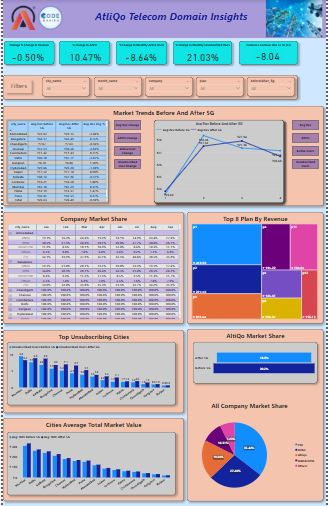

The page's visual inventory and layout, read from the dashboard file:
{"tool":"powerbi","page":{"name":"Overview Insight","canvas":[1700,2800],"ordinal":1},"visuals":[{"type":"textbox","box":[970.8,1764.6,716.9,906.2],"z":0},{"type":"textbox","box":[0,1766.2,952.3,436.9],"z":1000},{"type":"textbox","box":[0,588,1688,526],"z":2000},{"type":"textbox","box":[970.7,1148,717.3,588],"z":3000},{"type":"textbox","box":[0,1148,952,588],"z":4000},{"type":"textbox","box":[0,424,1550,128],"z":5000},{"type":"textbox","box":[897.1,249.3,310.1,123.2],"z":6000},{"type":"textbox","box":[592.8,249.3,268.1,123.2],"z":7000},{"type":"textbox","box":[297.1,249.3,268.1,123.2],"z":8000},{"type":"card","fields":{"Values":["A Measures Table.Mon Act User Chg %"]},"box":[631.9,288.4,189.9,71],"z":9000},{"type":"card","fields":{"Values":["A Measures Table.ARPU Chg %"]},"box":[329,292.8,204.3,62.3],"z":10000},{"type":"card","fields":{"Values":["A Measures Table.Mon Unsub User Chg %"]},"box":[952.2,288.4,200,71],"z":11000},{"type":"textbox","box":[0,0,2000,231.9],"z":12000},{"type":"image","box":[34.8,49.3,142,153.6],"z":13000},{"type":"image","box":[176.8,49.3,142,153.6],"z":14000},{"type":"image","box":[1381.5,0,306.2,232.3],"z":15000},{"type":"textbox","box":[478.7,73.3,822.7,84],"z":16000},{"type":"textbox","box":[4.3,249.3,263.8,123.2],"z":17000},{"type":"card","fields":{"Values":["A Measures Table.Avg Rev Chg %"]},"box":[34.8,292.8,188.4,62.3],"z":18000},{"type":"textbox","box":[1240.6,249.3,310.1,123.2],"z":19000},{"type":"card","fields":{"Values":["A Measures Table.Revenue Loss/Gain"]},"box":[1313,288.4,163.8,62.3],"z":20000},{"type":"slicer","fields":{"Values":["dim_cities.city_name"]},"box":[202.7,437.3,252,101.3],"z":21000},{"type":"slicer","fields":{"Values":["dim_date.before/after_5g"]},"box":[1285.3,437.3,252,101.3],"z":22000},{"type":"slicer","fields":{"Values":["dim_date.month_name"]},"box":[478.7,437.3,252,101.3],"z":23000},{"type":"slicer","fields":{"Values":["dim_plan.plan"]},"box":[1017.3,437.3,252,101.3],"z":24000},{"type":"slicer","fields":{"Values":["fact_market_share.company"]},"box":[748,437.3,252,101.3],"z":25000},{"type":"actionButton","title":"Unsub User Change","box":[584.6,867.7,141.5,50.8],"z":27000},{"type":"actionButton","title":"Act User Change","box":[584.6,801.5,141.5,50.8],"z":29000},{"type":"actionButton","title":"ARPU Change","box":[584.6,732.3,141.5,50.8],"z":31000},{"type":"tableEx","title":"Avg Rev Change Table","fields":{"Values":["dim_cities.city_name","A Measures Table.Avg Rev Before 5G","A Measures Table.Avg Rev After 5G","A Measures Table.Avg Rev Chg %"]},"box":[20.3,660.9,534.4,435.9],"z":32000},{"type":"actionButton","title":"Avg Rev Change","box":[584.6,661.5,141.5,50.8],"z":33000},{"type":"lineChart","title":"Monthly Unsubscribed Users Before And After 5G","fields":{"Y":["A Measures Table.Mon Unsub Users Before 5G","A Measures Table.Mon Unsub Users After 5G"],"Category":["dim_date.time_period"]},"box":[794.2,660.9,682.6,436.2],"z":34000},{"type":"actionButton","title":"Unsubscribed Users Gp","box":[1521.7,868.1,140.6,50.7],"z":35000},{"type":"lineChart","title":"Monthly Active Users Before And After 5G","fields":{"Y":["A Measures Table.Mon Act Users Before 5G","A Measures Table.Mon Act Users After 5G"],"Category":["dim_date.time_period"]},"box":[794.2,660.9,682.6,436.2],"z":36000},{"type":"actionButton","title":"Active Users Gp","box":[1521.7,801.4,140.6,50.7],"z":37000},{"type":"lineChart","title":"ARPU Before And After 5G","fields":{"Y":["A Measures Table.ARPU Before 5G","A Measures Table.ARPU After 5G"],"Category":["dim_date.time_period"]},"box":[794.2,660.9,682.6,436.2],"z":38000},{"type":"actionButton","title":"ARPU Gp","box":[1521.7,731.9,140.6,50.7],"z":39000},{"type":"lineChart","title":"Avg Rev Before And After 5G","fields":{"Y":["A Measures Table.Avg Rev Before 5G","A Measures Table.Avg Rev After 5G"],"Category":["dim_date.time_period"]},"box":[794.2,660.9,682.6,436.2],"z":40000},{"type":"actionButton","title":"Avg Rev Gp","box":[1521.7,660.9,140.6,50.7],"z":41000},{"type":"textbox","box":[14.5,453.6,134.8,68.1],"z":42000},{"type":"pivotTable","fields":{"Rows":["dim_cities.city_name","fact_market_share.company"],"Values":["Sum(fact_market_share.ms_pct)"],"Columns":["dim_date.month_name"]},"box":[20,1204.6,918.5,510.8],"z":43000},{"type":"treemap","fields":{"Group":["fact_plan_revenue.plans"],"Values":["Sum(fact_plan_revenue.plan_revenue_crores)"]},"box":[990.7,1204,670.7,510.7],"z":44000},{"type":"clusteredColumnChart","fields":{"Category":["dim_cities.city_name"],"Y":["A Measures Table.Unsubscribed Users Before 5G","A Measures Table.Unsubscribed Users After 5G"]},"box":[20,1833.8,887.7,332.3],"z":45000},{"type":"funnel","fields":{"Category":["dim_date.before/after_5g","dim_date.month_name"],"Y":["A Measures Table.AtliQo Avg Market Share %"]},"box":[1001.5,1833.8,653.8,216.9],"z":46000},{"type":"textbox","box":[0,2233.8,952.3,436.9],"z":47000},{"type":"clusteredColumnChart","fields":{"Category":["dim_cities.city_name"],"Y":["A Measures Table.Avg TMV Before 5G","A Measures Table.Avg TMV After 5G"]},"box":[20,2307.7,887.7,332.3],"z":48000},{"type":"funnel","fields":{"Category":["dim_date.before/after_5g","dim_date.month_name"],"Y":["A Measures Table.AtliQo Avg Market Share %"]},"box":[1301.5,3884.6,653.8,186.2],"z":49000},{"type":"pieChart","fields":{"Category":["fact_market_share.company"],"Y":["A Measures Table.Market Share %"]},"box":[896.9,2186.2,758.5,484.6],"z":50000},{"type":"textbox","box":[1026.2,2136.9,550.8,56.9],"z":51000},{"type":"textbox","box":[0,2738.6,1688.6,48.6],"z":52000}]}

Visuals, with their boxes in screenshot pixels (x1, y1, x2, y2):
textbox: locate(186, 327, 323, 501)
textbox: locate(0, 328, 182, 411)
textbox: locate(0, 102, 323, 203)
textbox: locate(186, 209, 323, 322)
textbox: locate(0, 209, 182, 322)
textbox: locate(0, 71, 297, 95)
textbox: locate(172, 37, 231, 61)
textbox: locate(114, 37, 165, 61)
textbox: locate(57, 37, 108, 61)
card - A Measures Table.Mon Act User Chg %: locate(121, 45, 157, 58)
card - A Measures Table.ARPU Chg %: locate(63, 46, 102, 57)
card - A Measures Table.Mon Unsub User Chg %: locate(182, 45, 221, 58)
textbox: locate(0, 0, 327, 34)
image: locate(7, 0, 34, 28)
image: locate(34, 0, 61, 28)
image: locate(265, 0, 323, 34)
textbox: locate(92, 4, 249, 20)
textbox: locate(1, 37, 51, 61)
card - A Measures Table.Avg Rev Chg %: locate(7, 46, 43, 57)
textbox: locate(238, 37, 297, 61)
card - A Measures Table.Revenue Loss/Gain: locate(252, 45, 283, 57)
slicer - dim_cities.city_name: locate(39, 73, 87, 93)
slicer - dim_date.before/after_5g: locate(246, 73, 294, 93)
slicer - dim_date.month_name: locate(92, 73, 140, 93)
slicer - dim_plan.plan: locate(195, 73, 243, 93)
slicer - fact_market_share.company: locate(143, 73, 192, 93)
"Unsub User Change" actionButton: locate(112, 156, 139, 165)
"Act User Change" actionButton: locate(112, 143, 139, 153)
"ARPU Change" actionButton: locate(112, 130, 139, 139)
"Avg Rev Change Table" tableEx: locate(4, 116, 106, 200)
"Avg Rev Change" actionButton: locate(112, 116, 139, 126)
"Monthly Unsubscribed Users Before And After 5G" lineChart: locate(152, 116, 283, 200)
"Unsubscribed Users Gp" actionButton: locate(291, 156, 318, 165)
"Monthly Active Users Before And After 5G" lineChart: locate(152, 116, 283, 200)
"Active Users Gp" actionButton: locate(291, 143, 318, 153)
"ARPU Before And After 5G" lineChart: locate(152, 116, 283, 200)
"ARPU Gp" actionButton: locate(291, 130, 318, 139)
"Avg Rev Before And After 5G" lineChart: locate(152, 116, 283, 200)
"Avg Rev Gp" actionButton: locate(291, 116, 318, 126)
textbox: locate(3, 76, 29, 89)
pivotTable - dim_cities.city_name x fact_market_share.company: locate(4, 220, 180, 318)
treemap - fact_plan_revenue.plans x Sum(fact_plan_revenue.plan_revenue_crores): locate(190, 220, 318, 318)
clusteredColumnChart - dim_cities.city_name x A Measures Table.Unsubscribed Users Before 5G: locate(4, 341, 174, 404)
funnel - dim_date.before/after_5g x dim_date.month_name: locate(192, 341, 317, 382)
textbox: locate(0, 417, 182, 501)
clusteredColumnChart - dim_cities.city_name x A Measures Table.Avg TMV Before 5G: locate(4, 432, 174, 495)
pieChart - fact_market_share.company x A Measures Table.Market Share %: locate(172, 408, 317, 501)
textbox: locate(197, 399, 302, 410)
